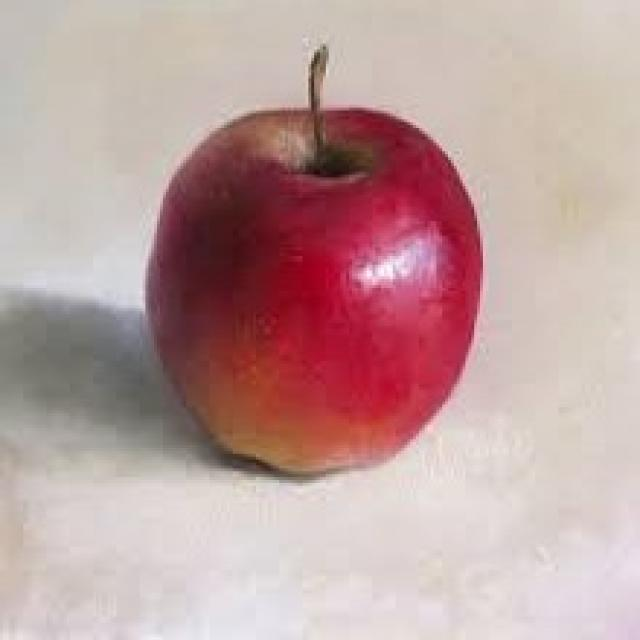apple: (141, 39, 490, 479)
